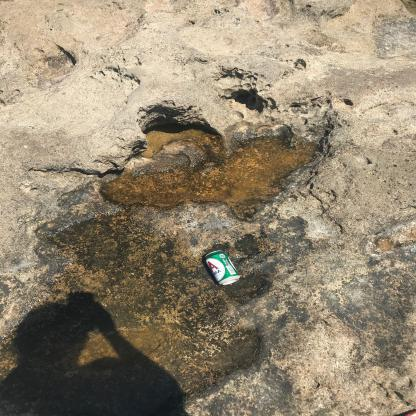metal: (131, 205, 167, 242)
